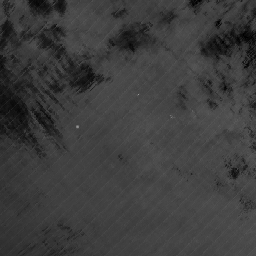Target: (74, 124, 81, 130)
